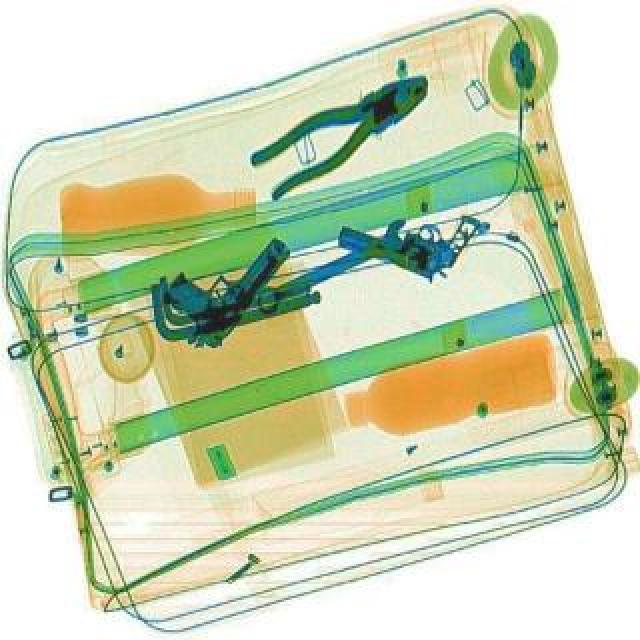gun: (142, 204, 298, 360), (330, 178, 482, 286)
scissors: (248, 216, 420, 318)
wrench: (242, 56, 444, 202)
